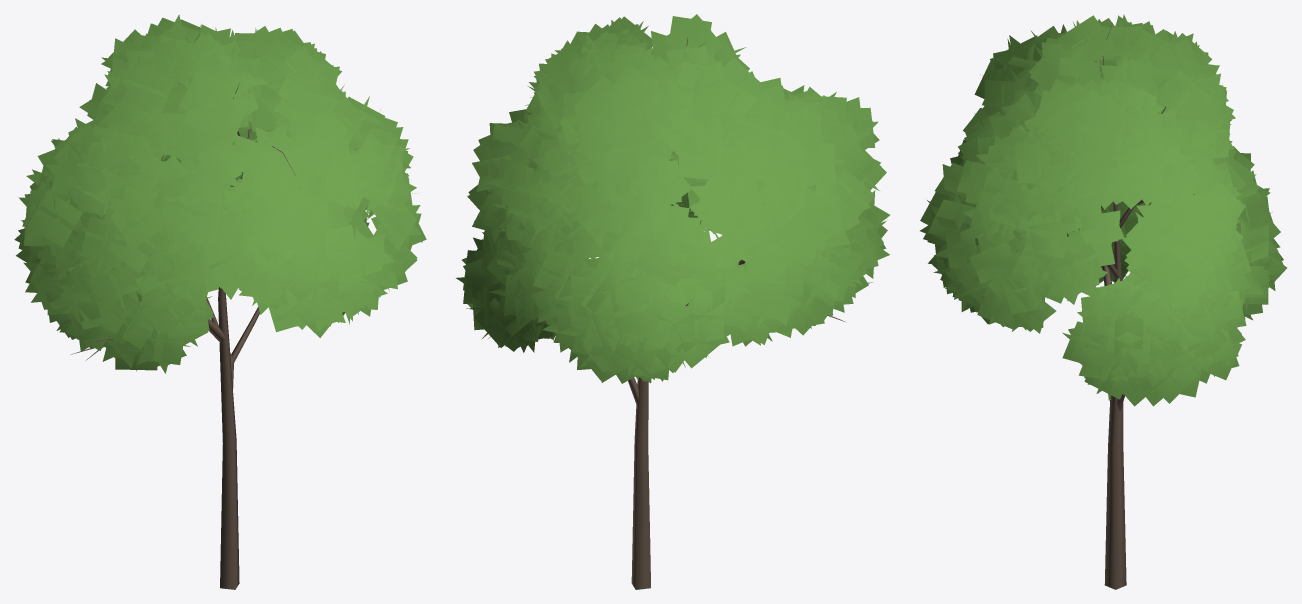
File: Blender.fbx
3 renders of one model, left to right at view 1: azimuth 30°, elevation 25°; view 2: azimuth 150°, elevation 25°; view 3: azimuth 270°, elevation 25°, orthographic. The views are drawn at different scales.
Visible parts, largest first — view 1: Leaves, tree; view 2: Leaves, tree; view 3: Leaves, tree.
Boxes of the visible parts, bbox=[...] form: Leaves: bbox=[14, 14, 426, 373]; tree: bbox=[70, 37, 295, 589]; Leaves: bbox=[456, 14, 889, 383]; tree: bbox=[526, 37, 872, 589]; Leaves: bbox=[920, 14, 1287, 406]; tree: bbox=[1040, 23, 1194, 589].
Size of the model in its own units: 4.57 by 6.73 by 4.08.
